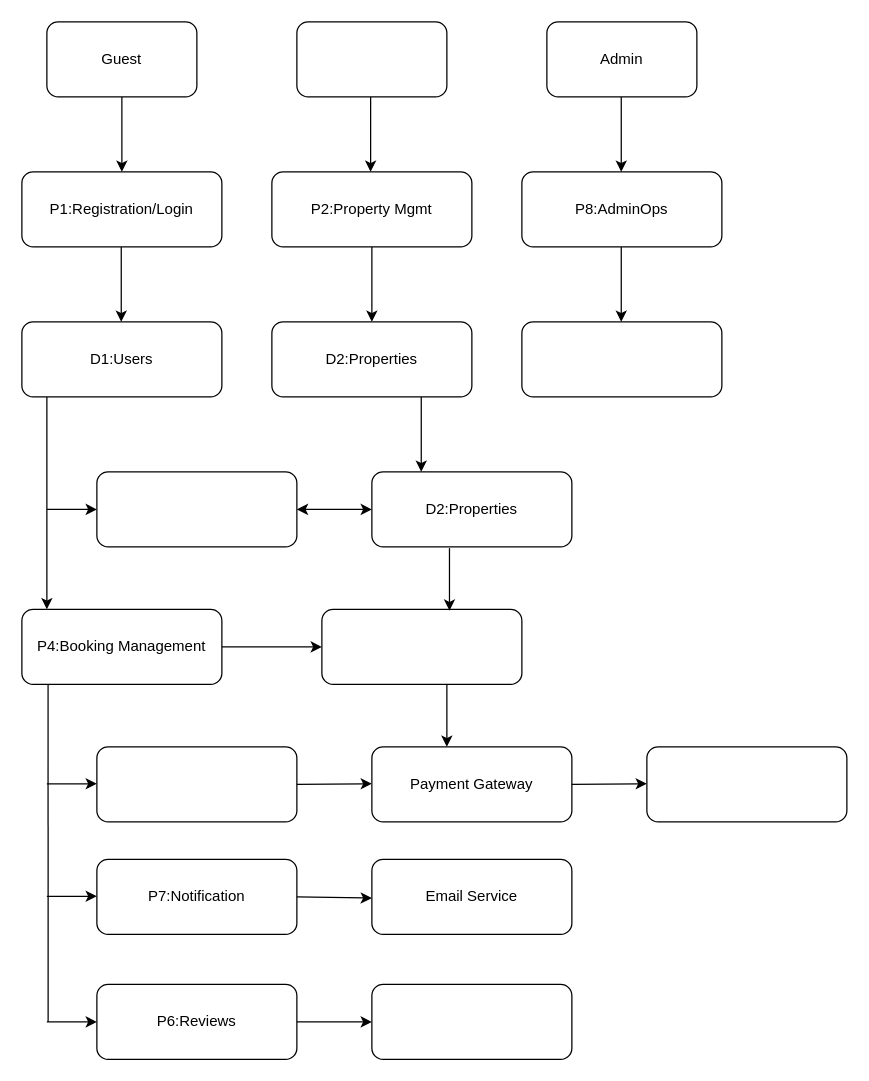
The diagram is 869 pixels wide and 1081 high, and some of its shapes have lost their labels. Here are the shapes that lost their labels. From the top down, the box of each, then its label:
(296, 21, 447, 97): Host
(521, 321, 722, 397): All DBs
(96, 471, 297, 547): P3:Search and Filter
(321, 608, 522, 684): D3:Bookings
(96, 746, 297, 822): P5:Payment
(646, 746, 847, 822): D4:Payments
(371, 983, 572, 1059): D5:Reviews
